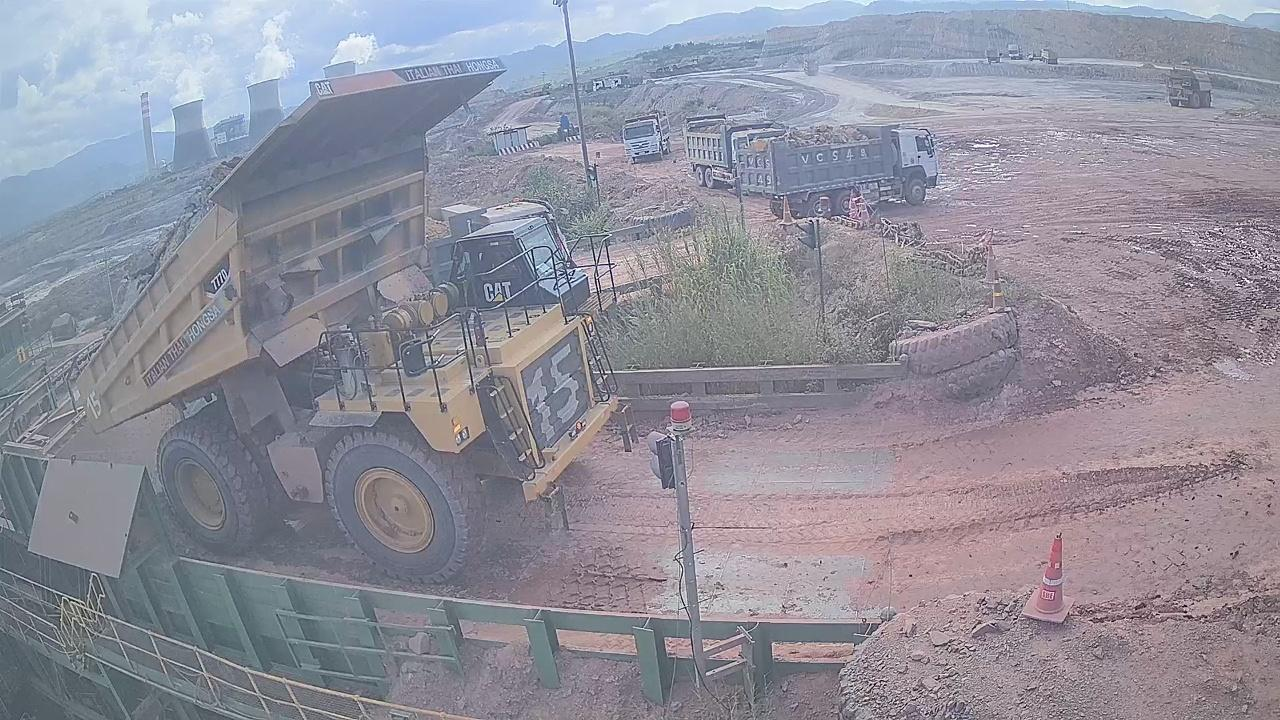company: (134, 298, 220, 389)
dumping_soil: (64, 54, 640, 586)
front_number: (518, 327, 597, 453)
tail_number: (78, 389, 112, 427)
truck_size: (197, 259, 237, 296)
